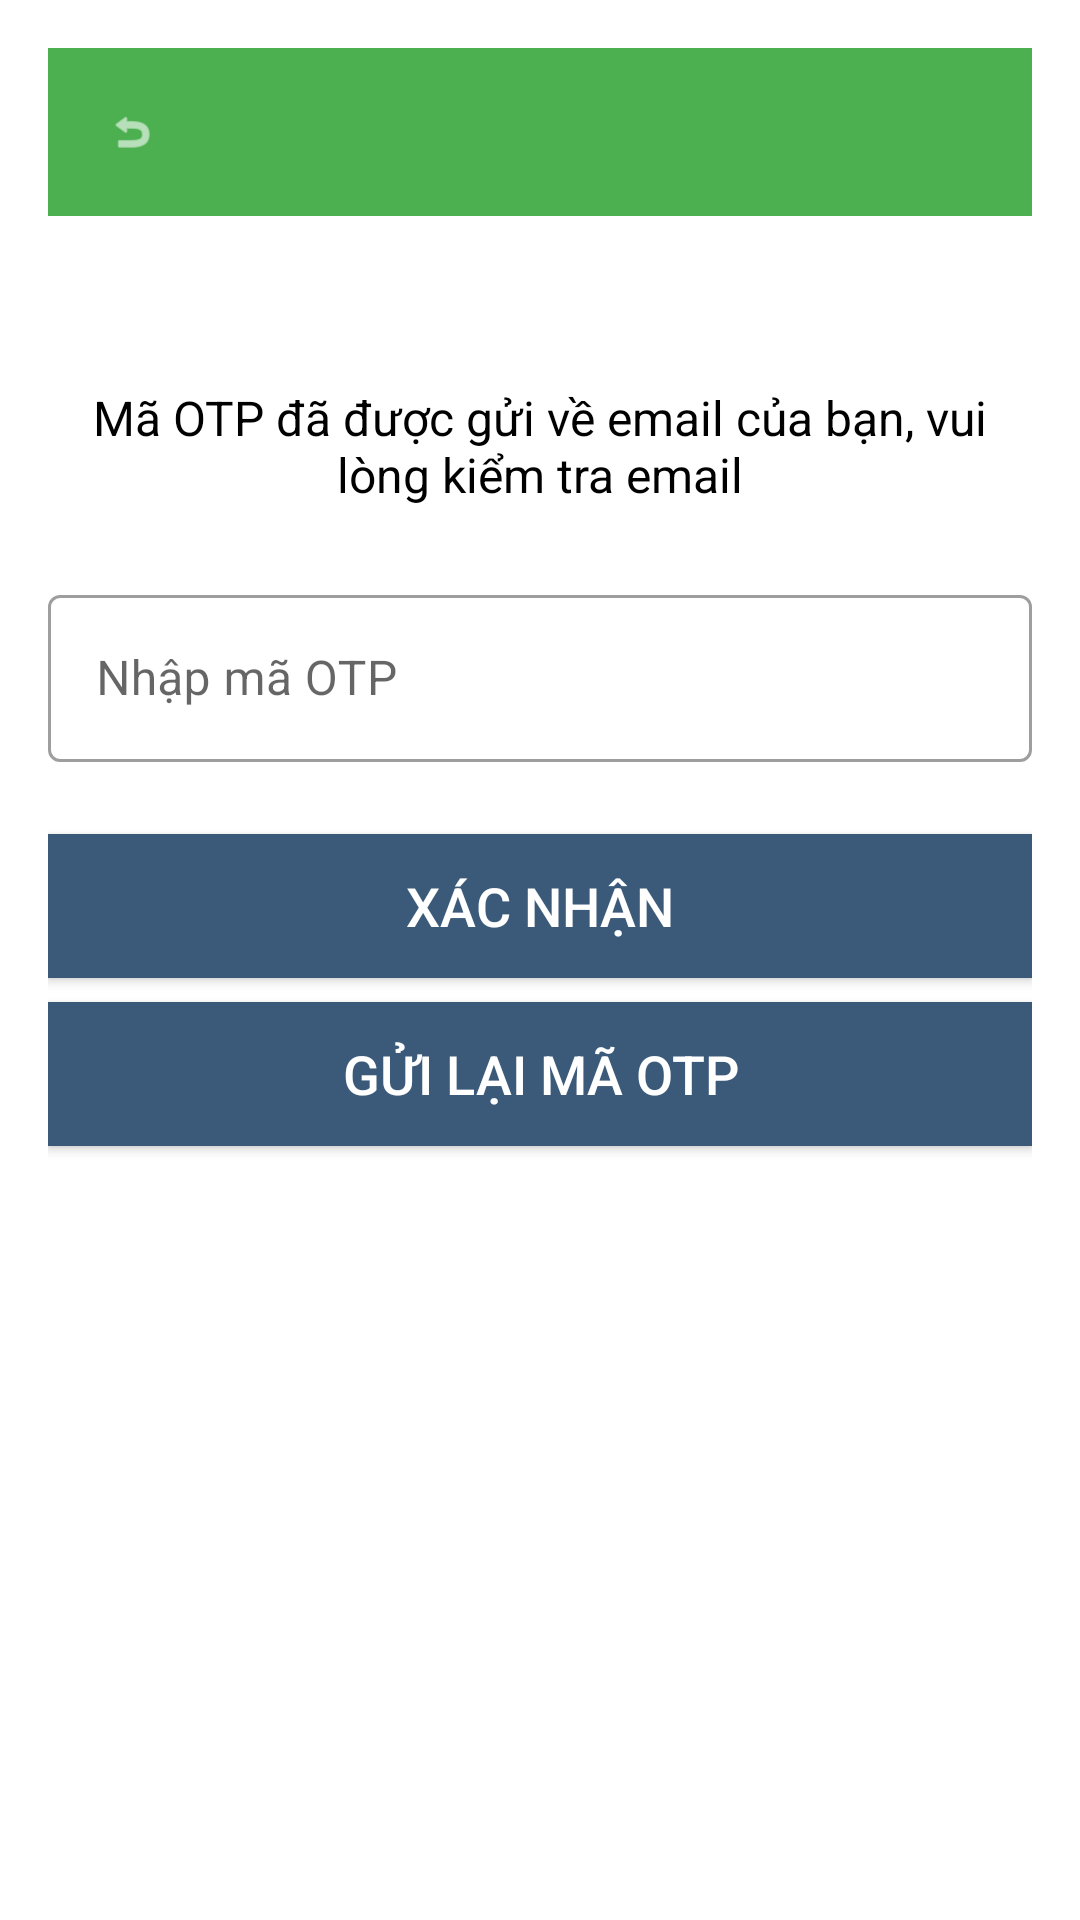

Icons on this 1080px×1920px Android screen, each with the point to tap as (x=x, y=y):
Back: (x=132, y=132)
